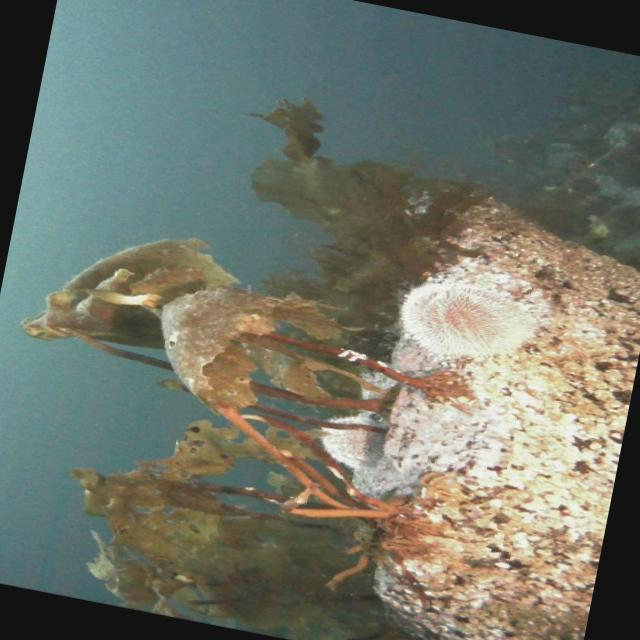Deniz Kestanesi: (390, 270, 544, 376), (312, 408, 389, 475)
